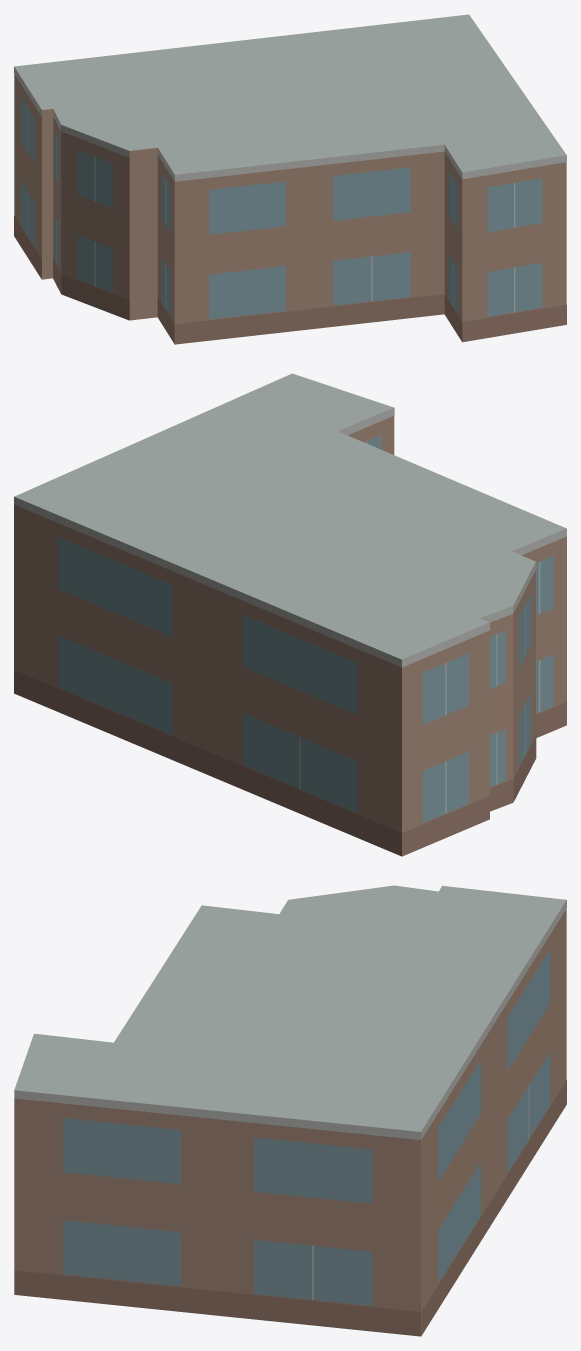
File: survey-upis-32949205.glb
3 renders of one model, top to bottom at view 1: azimuth 30°, elevation 25°; view 2: azimuth 150°, elevation 25°; view 3: azimuth 270°, elevation 25°, orthographic. The views are drawn at different scales.
Visible parts, largest first — view 1: survey-upis-32949205.tmp; view 2: survey-upis-32949205.tmp; view 3: survey-upis-32949205.tmp.
Boxes of the visible parts, x1=… form: survey-upis-32949205.tmp: x1=14, y1=14, x2=566, y2=344; survey-upis-32949205.tmp: x1=14, y1=373, x2=566, y2=856; survey-upis-32949205.tmp: x1=14, y1=885, x2=566, y2=1336.
Bounding box in the file's own units: 15.78 × 6.1 × 14.95.
